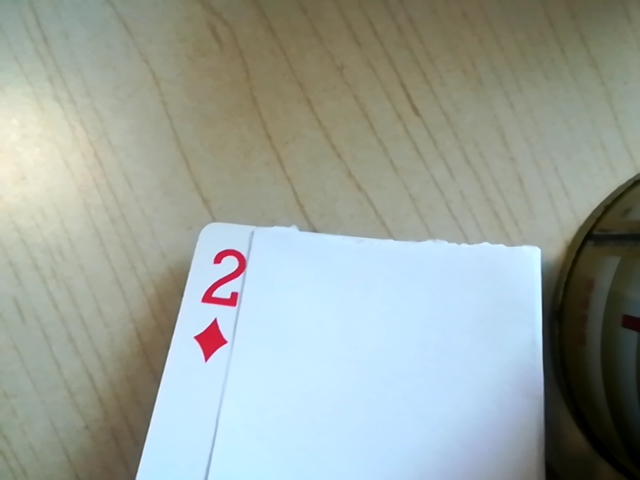fk 2: (188, 239, 256, 367)
